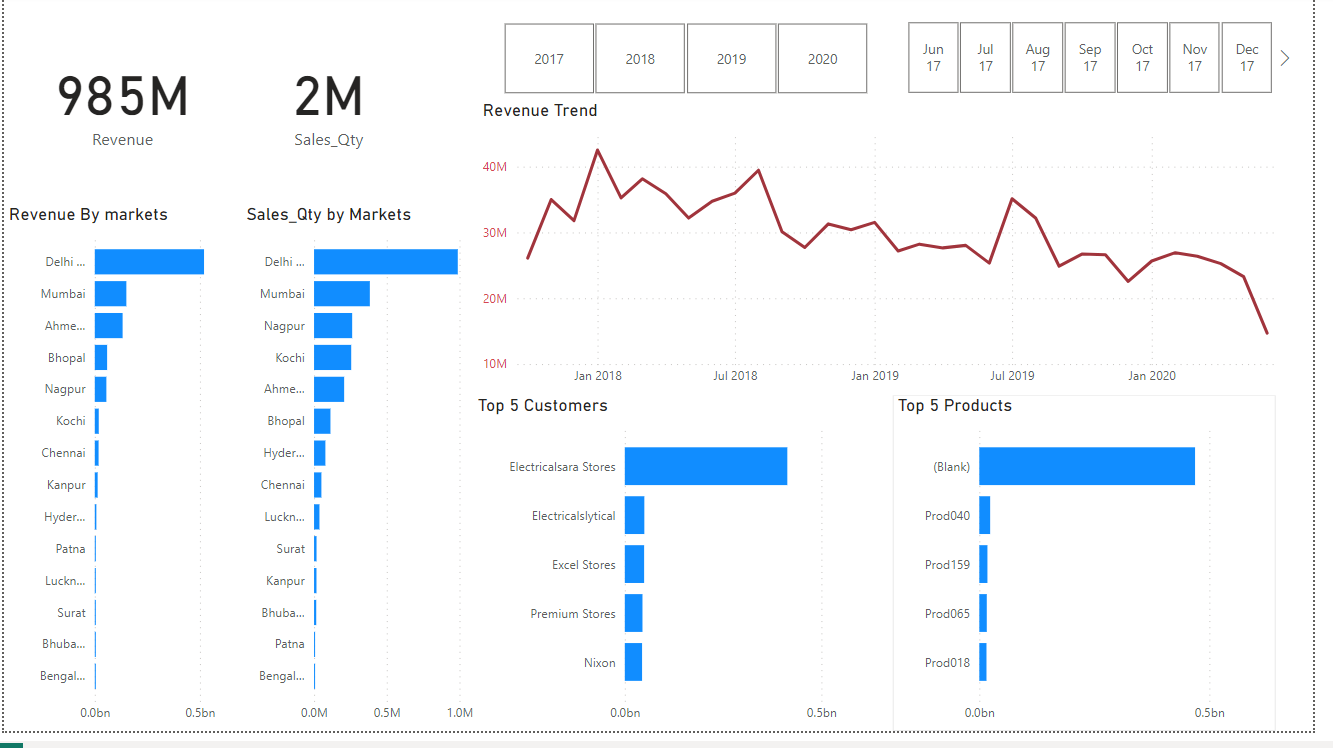

Layout of this report page (visuals, bound fields, positions):
{"tool":"powerbi","page":{"name":"Page 1","canvas":[1280,720],"ordinal":0},"visuals":[{"type":"card","fields":{"Values":["Base Measures.Revenue"]},"box":[0,0,231.9,204.5],"z":0},{"type":"card","fields":{"Values":["Base Measures.Sales_Qty"]},"box":[201.7,0,231.9,204.5],"z":1000},{"type":"barChart","title":"Revenue By markets","fields":{"Y":["Base Measures.Revenue"],"Category":["market.markets_name"]},"box":[0,204.5,231.9,516],"z":2000},{"type":"barChart","title":"Sales_Qty by Markets","fields":{"Y":["Base Measures.Sales_Qty"],"Category":["market.markets_name"]},"box":[231.9,204.5,231.9,516],"z":3000},{"type":"slicer","fields":{"Values":["date.cy_date"]},"box":[858.1,19.6,405.8,83.1],"z":4000},{"type":"slicer","fields":{"Values":["date.year"]},"box":[463.8,20.6,404.8,82.3],"z":5000},{"type":"barChart","title":"Top 5 Customers ","fields":{"Y":["Base Measures.Revenue"],"Category":["customer csv.customer_name"]},"box":[458.3,391.1,399.3,329.3],"z":5001},{"type":"barChart","title":"Top 5 Products","fields":{"Y":["Base Measures.Revenue"],"Category":["product.product_code"]},"box":[868.6,391.1,374.6,329.3],"z":5002},{"type":"lineChart","title":"Revenue Trend","fields":{"Y":["Base Measures.Revenue"],"Category":["date.cy_date"]},"box":[463.3,102.7,800.7,288.5],"z":5003}]}

Visuals, with their boxes in screenshot pixels (x1, y1, x2, y2), scaled from the page's 1280x720 canvas onto the 1333x748 screenshot:
card - Base Measures.Revenue: 0, 0, 242, 212
card - Base Measures.Sales_Qty: 210, 0, 452, 212
"Revenue By markets" barChart: 0, 212, 242, 747
"Sales_Qty by Markets" barChart: 242, 212, 483, 747
slicer - date.cy_date: 894, 20, 1316, 107
slicer - date.year: 483, 21, 905, 107
"Top 5 Customers " barChart: 477, 406, 893, 747
"Top 5 Products" barChart: 905, 406, 1295, 747
"Revenue Trend" lineChart: 482, 107, 1316, 406
